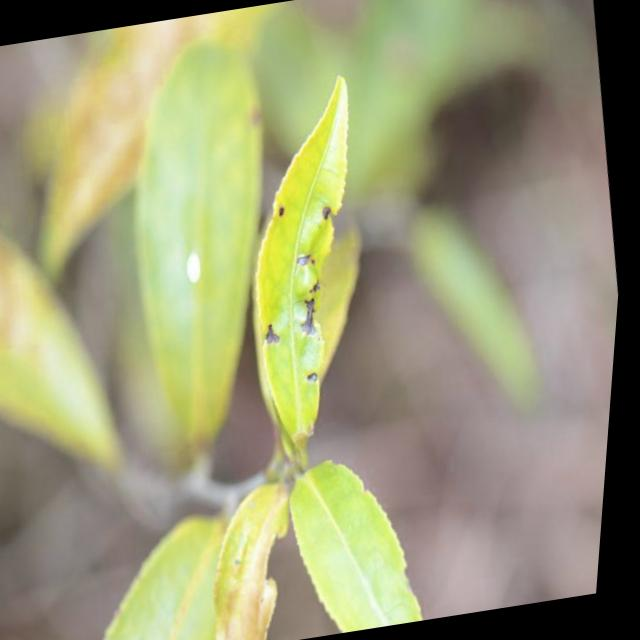Tea red scab: (292, 291, 348, 388), (270, 187, 348, 246), (257, 299, 296, 356), (292, 243, 334, 290)
